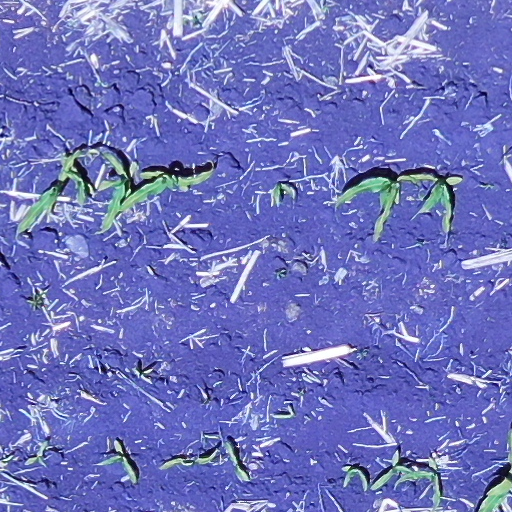planta: (18, 149, 82, 233), (115, 169, 213, 211), (335, 177, 399, 237), (396, 173, 453, 232), (95, 154, 128, 231), (399, 457, 443, 506), (371, 454, 417, 488), (104, 443, 137, 482), (64, 169, 87, 204), (162, 453, 214, 467)
